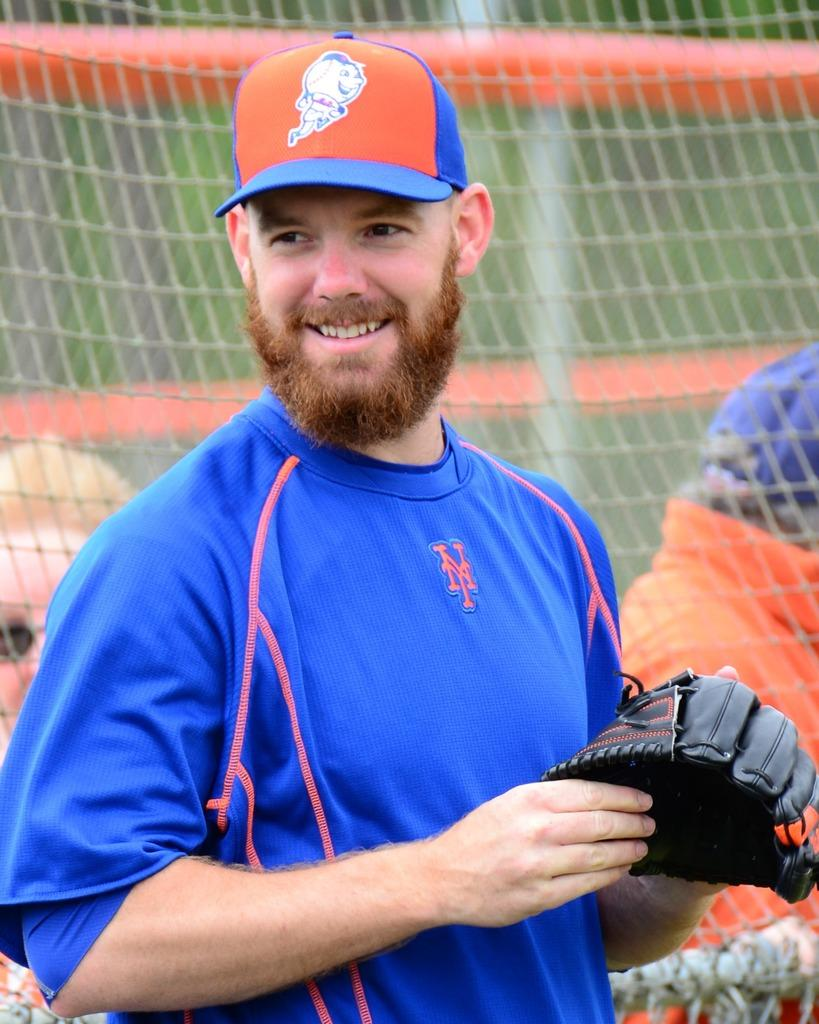Hat: (212, 30, 469, 221), (697, 336, 818, 504)
